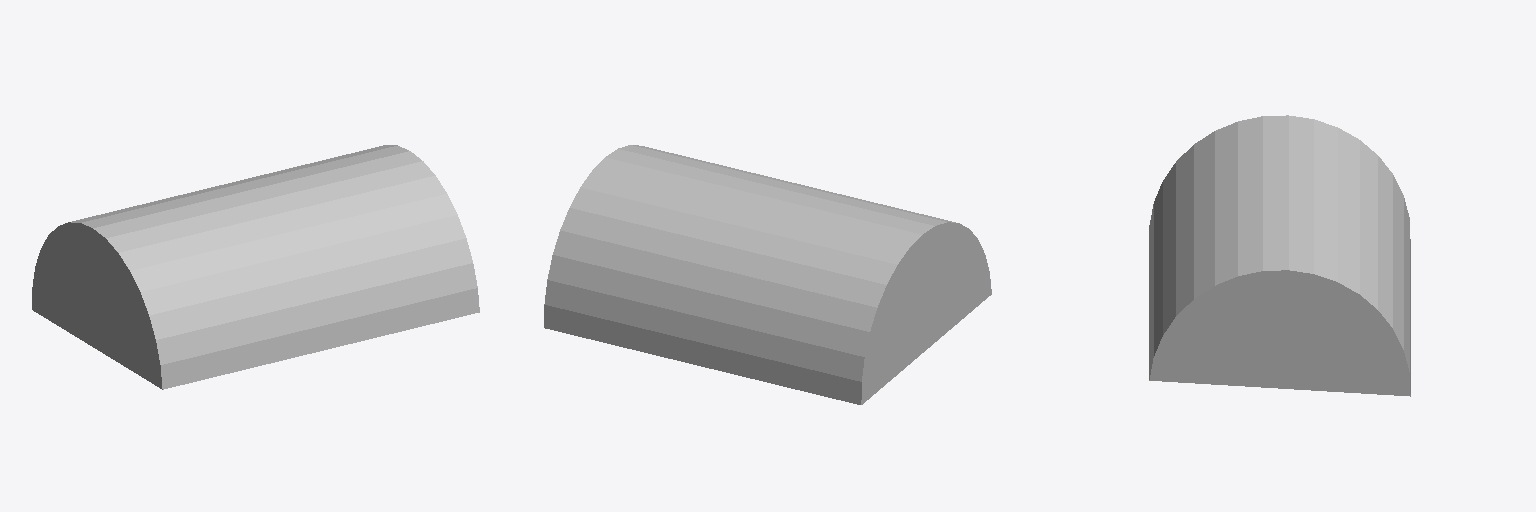
Rendered from CouvercleCoffrebois.obj.
3 renders of one model, left to right at view 1: azimuth 30°, elevation 25°; view 2: azimuth 150°, elevation 25°; view 3: azimuth 270°, elevation 25°, orthographic.
Parts seen in each view (by area): view 1: top.002; view 2: top.002; view 3: top.002.
Boxes of the visible parts, <box> form: top.002: <box>32,145,479,389</box>; top.002: <box>544,145,991,404</box>; top.002: <box>1149,115,1410,396</box>.
Size of the model in its own units: 2.8 by 1.06 by 2.